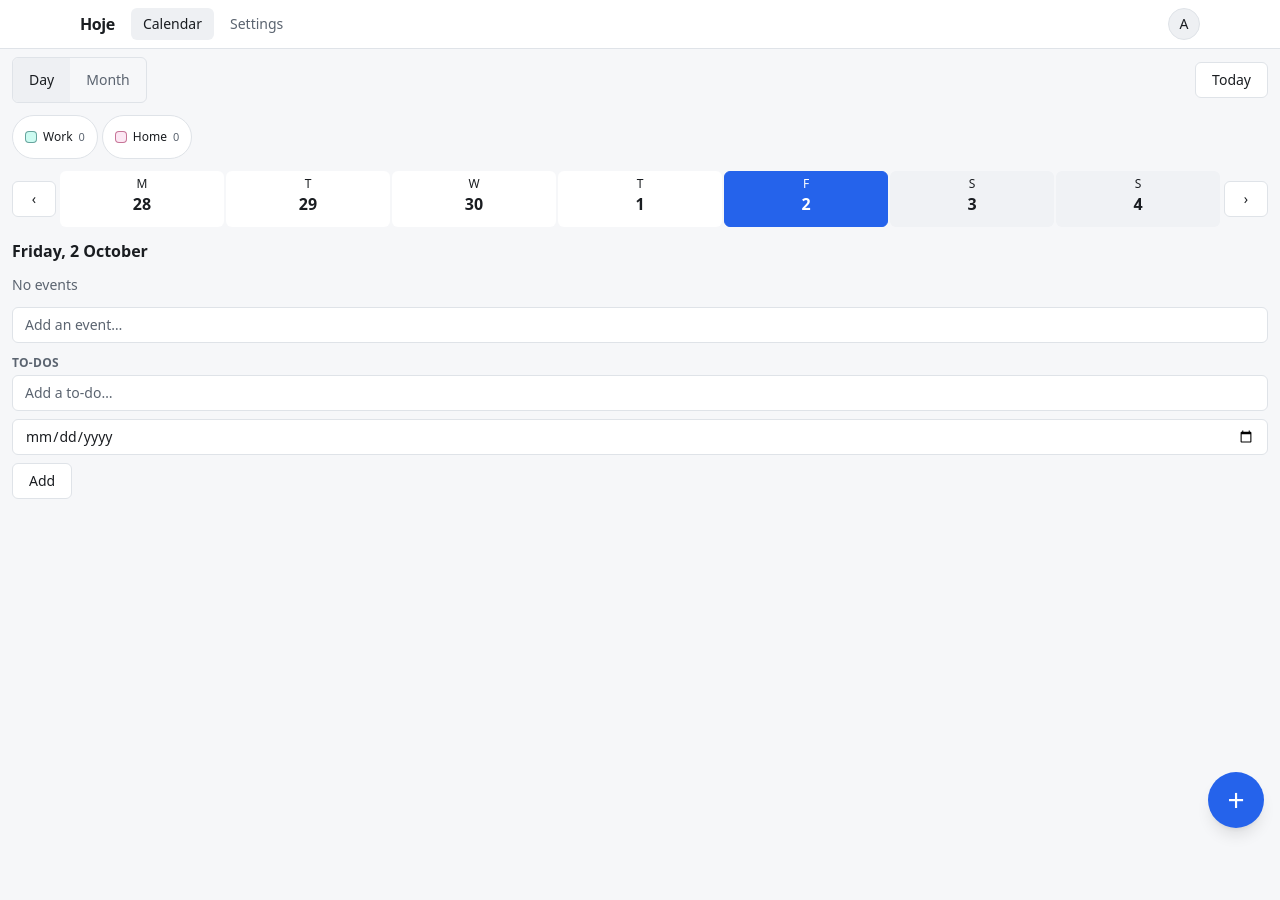
Test: mobile calendar › the + button opens a quick add that creates an all-day event on the selected date
Step 1. Click the button "S 3" → [972, 199], box left=890, top=171, right=1054, bottom=227
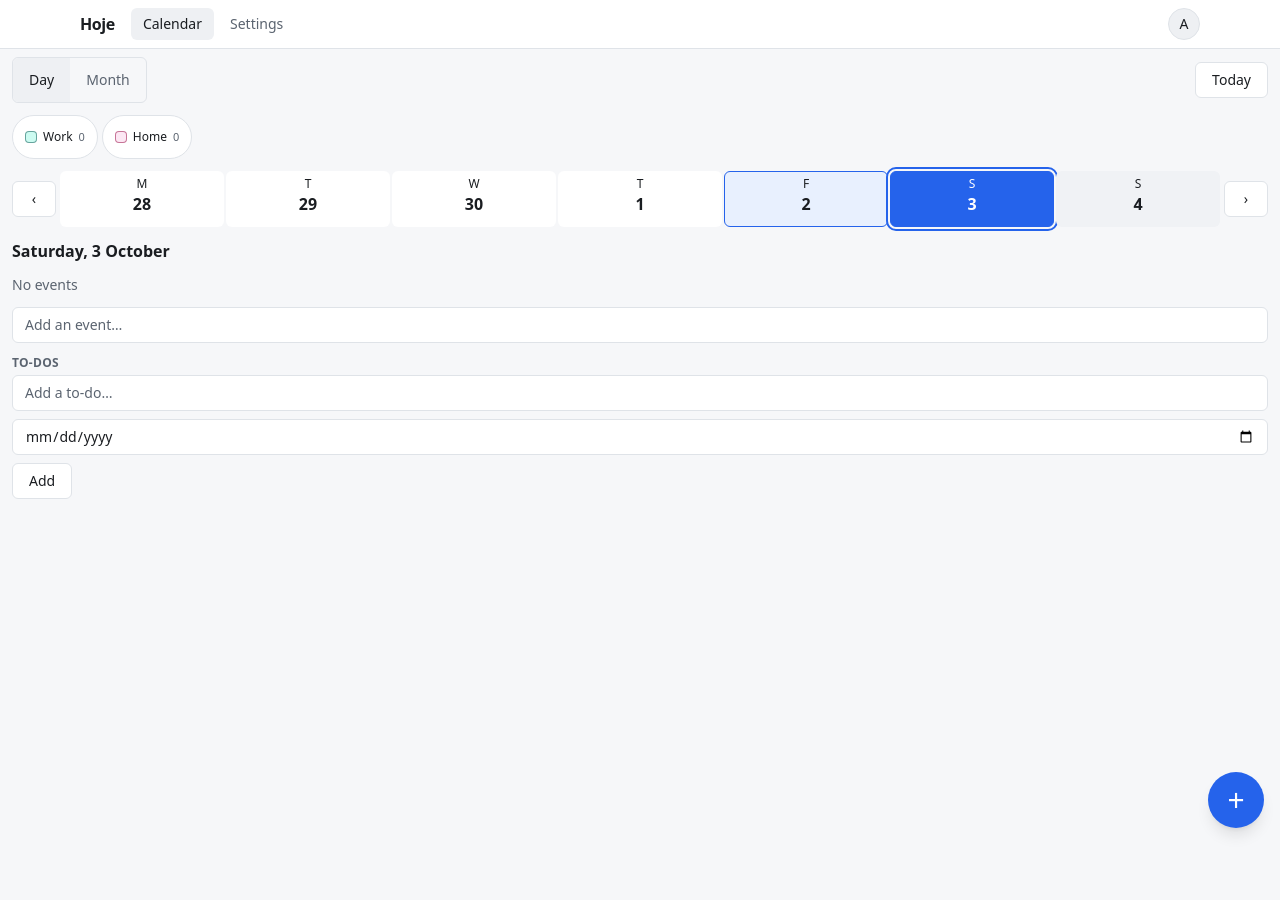
Step 2. Click the button named "Add event" → [1236, 800], box left=1208, top=772, right=1264, bottom=828
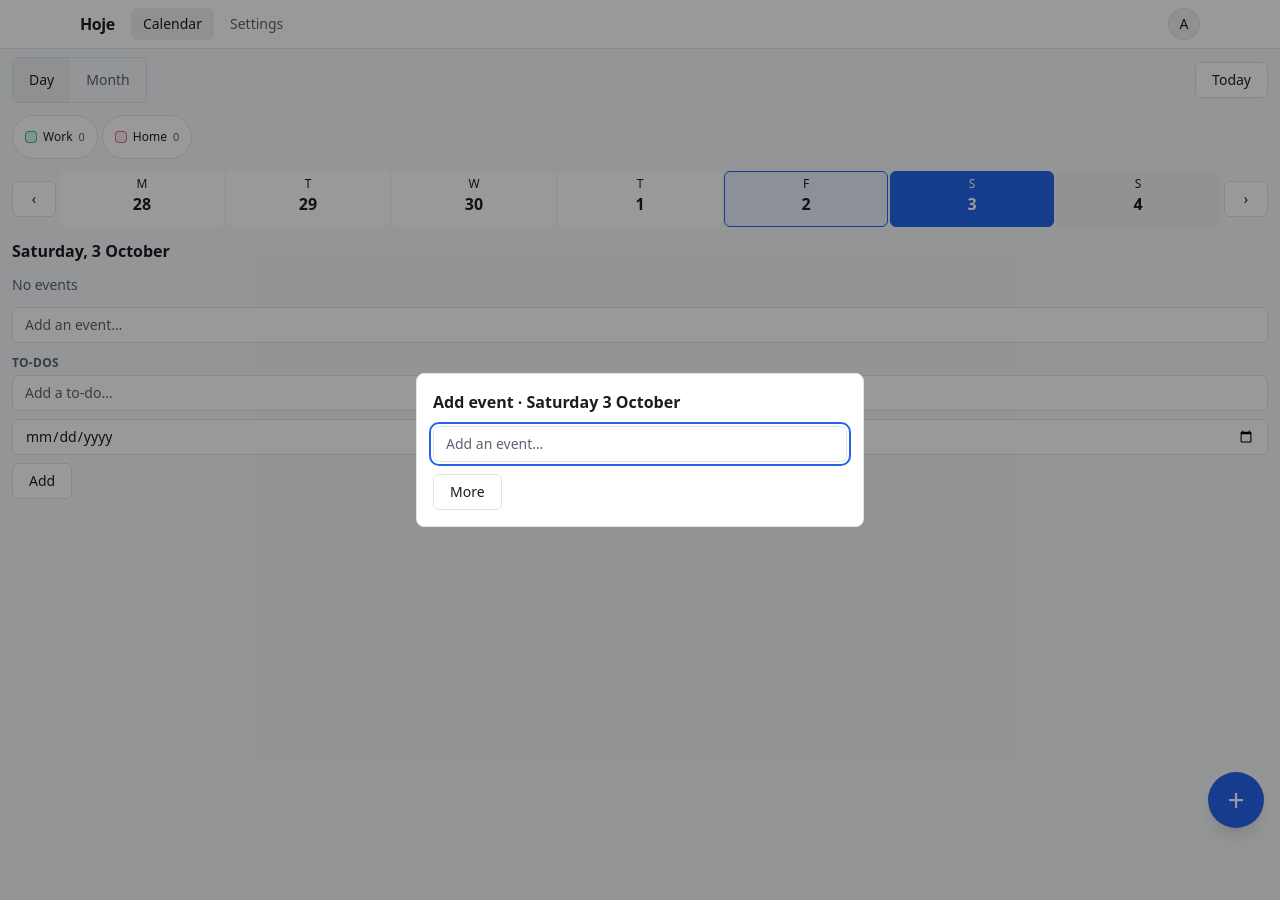
Result: the button "More" is shown at left=433, top=474, right=502, bottom=510
Step 3. Type "Call mum" into the field labelled "Add an event" → [640, 444], box left=433, top=426, right=847, bottom=462
Then press Enter
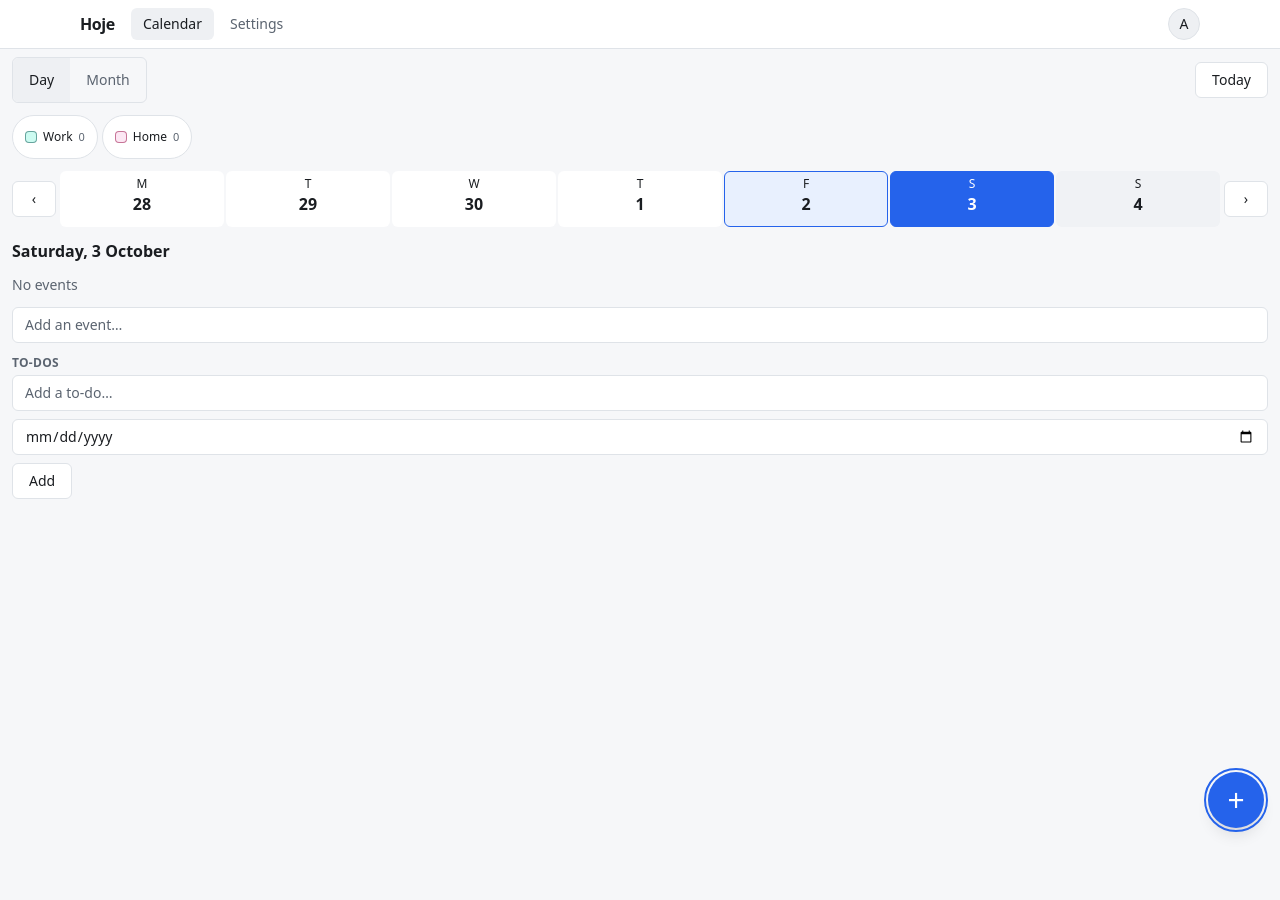
Result: the dialog is gone
